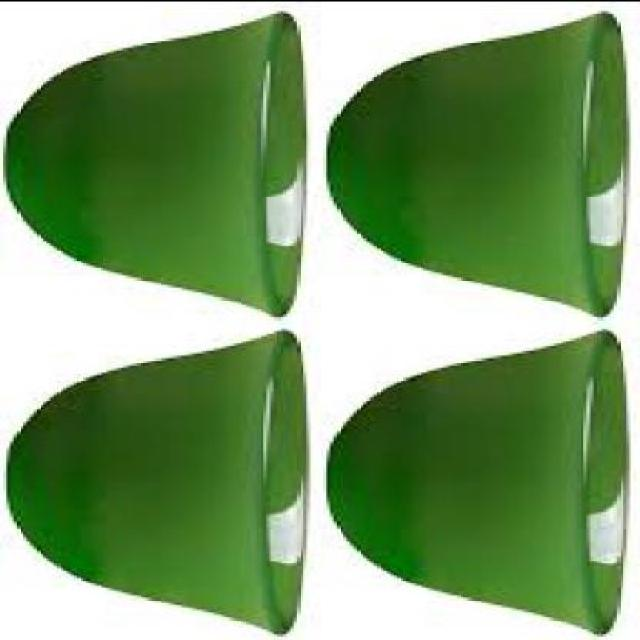GLASS: (3, 8, 311, 312), (330, 325, 633, 632), (13, 328, 313, 632), (330, 8, 630, 312)
